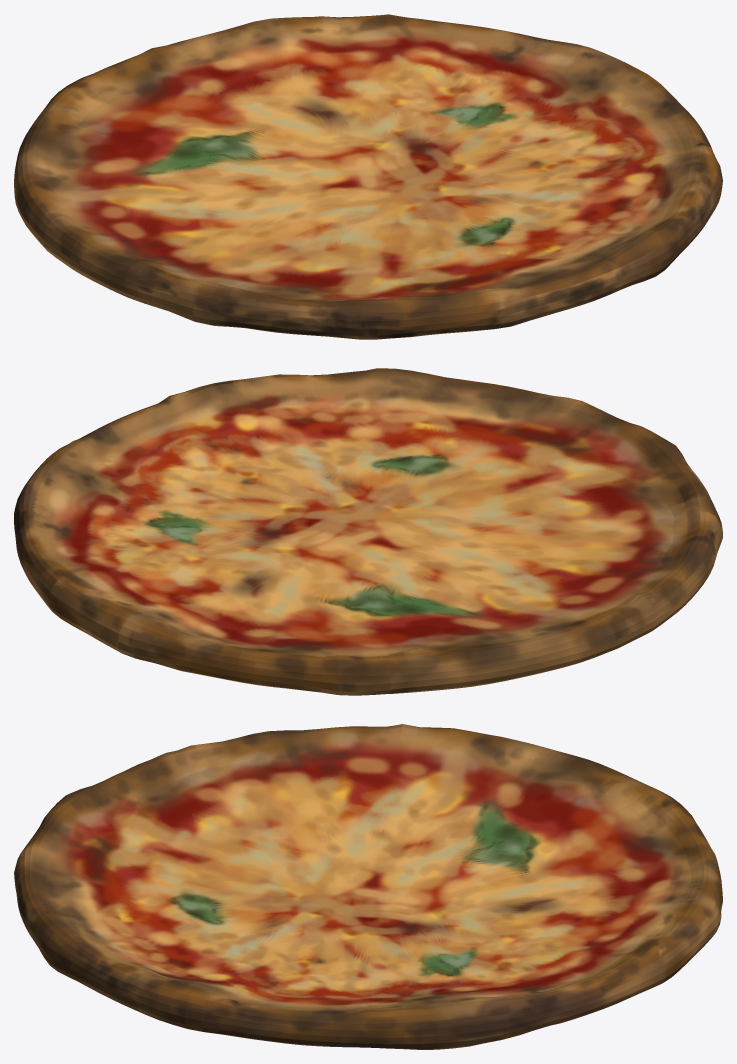
Rendered from pizza v1.glb.
The picture shows the model from 3 angles, top to bottom: view 1: azimuth 30°, elevation 25°; view 2: azimuth 150°, elevation 25°; view 3: azimuth 270°, elevation 25°; orthographic projection.
Visible parts, largest first — view 1: Cylinder; view 2: Cylinder; view 3: Cylinder.
Part boxes in pixels (bbox=[...]): Cylinder: bbox=[14, 14, 722, 339]; Cylinder: bbox=[14, 368, 722, 695]; Cylinder: bbox=[14, 724, 722, 1049].
Bounding box in the file's own units: 0.3473 × 0.0236 × 0.3473.
Materials: 1 (1 with a texture image).
